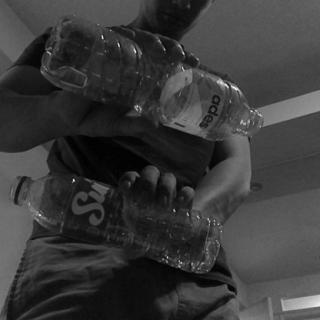plastic_bottles: (38, 13, 266, 138), (11, 170, 222, 276)
